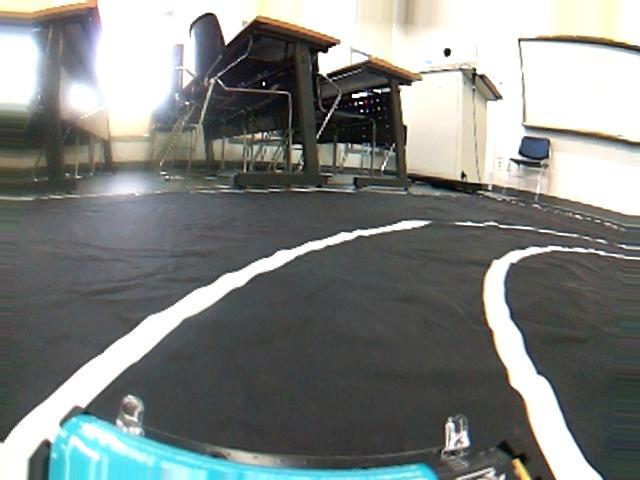right: (4, 212, 640, 479)
